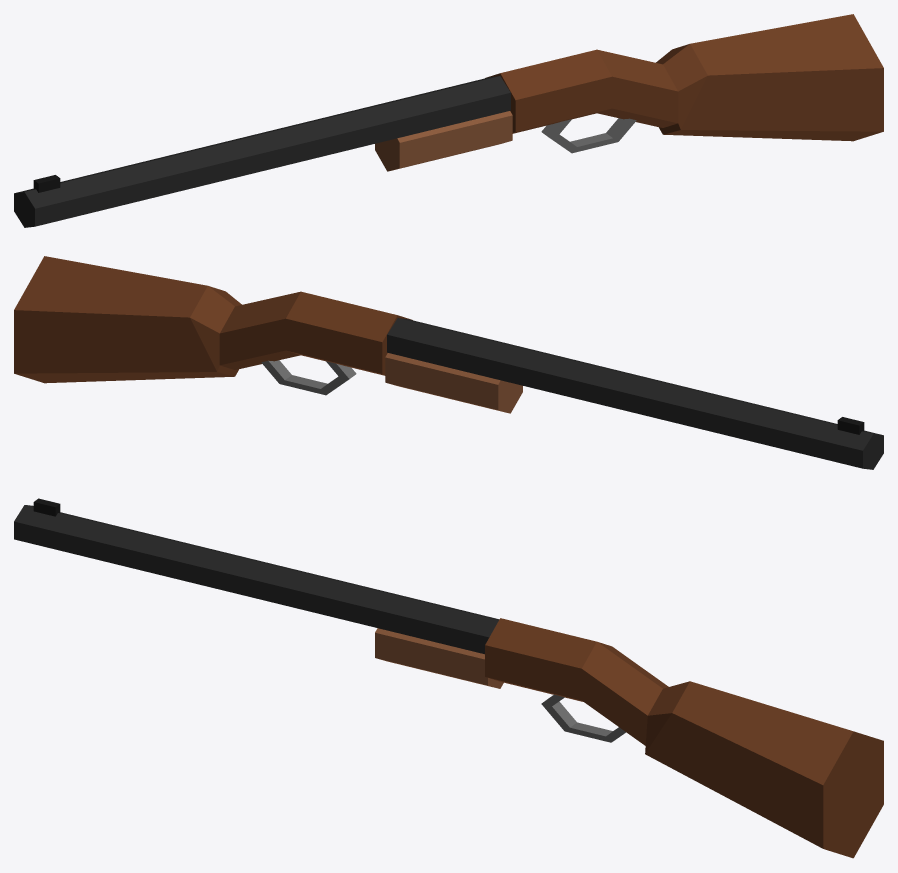
Rendered from SingleBarrelShotgun.fbx.
3 views of the same model, one above another, from view 1: azimuth 30°, elevation 25°; view 2: azimuth 150°, elevation 25°; view 3: azimuth 330°, elevation 25° (orthographic).
Parts seen in each view (by area): view 1: SingleBarrelShotgun; view 2: SingleBarrelShotgun; view 3: SingleBarrelShotgun.
Boxes of the visible parts, x1,y1,x2,y2 form: SingleBarrelShotgun: (14, 14, 883, 227); SingleBarrelShotgun: (14, 256, 883, 469); SingleBarrelShotgun: (14, 498, 883, 858).
Bounding box in the file's own units: 138 × 25.22 × 17.49.
